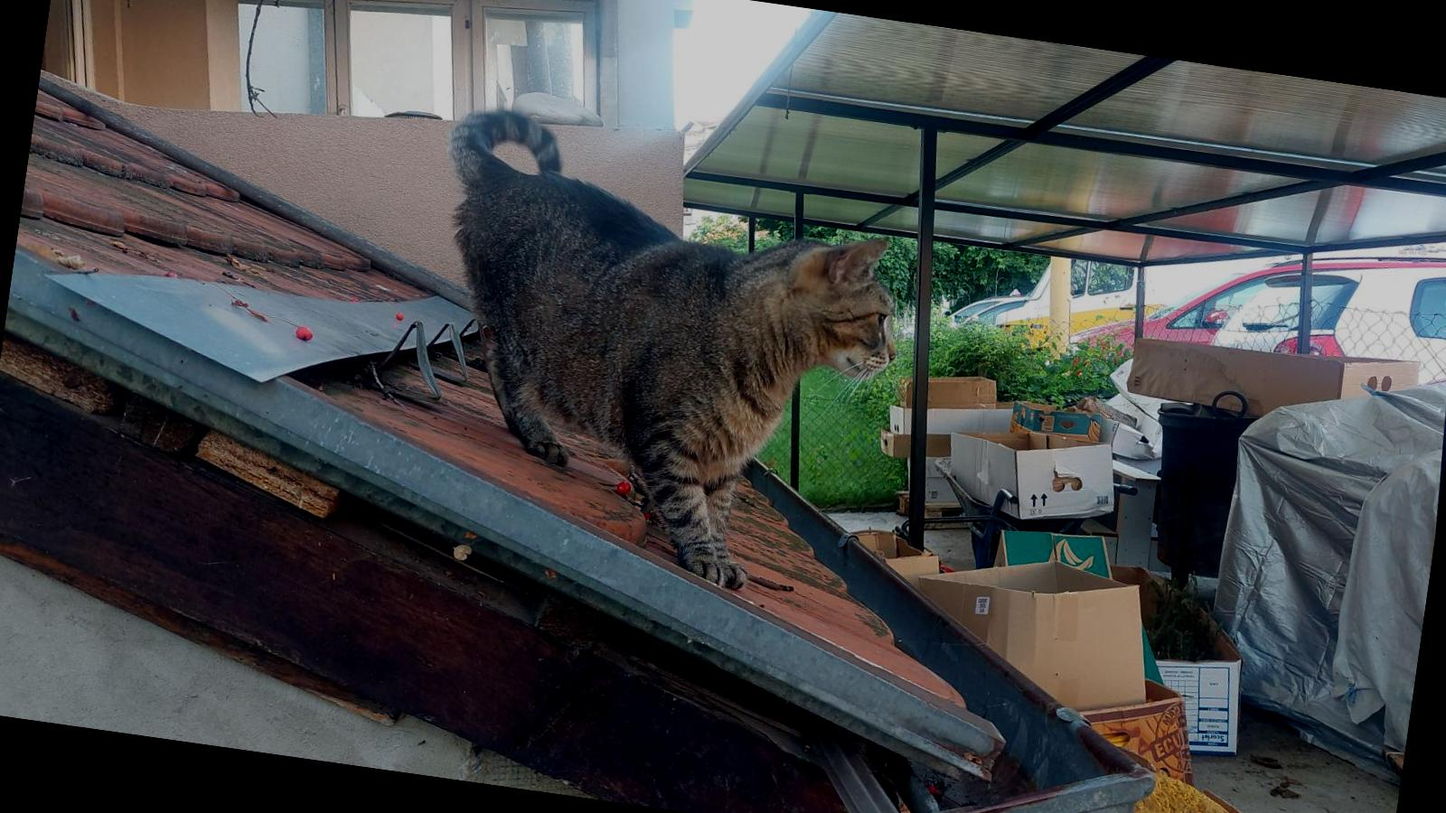macka: (397, 98, 925, 612)
